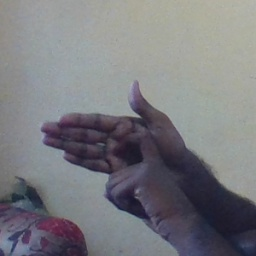R: (37, 74, 182, 220)
